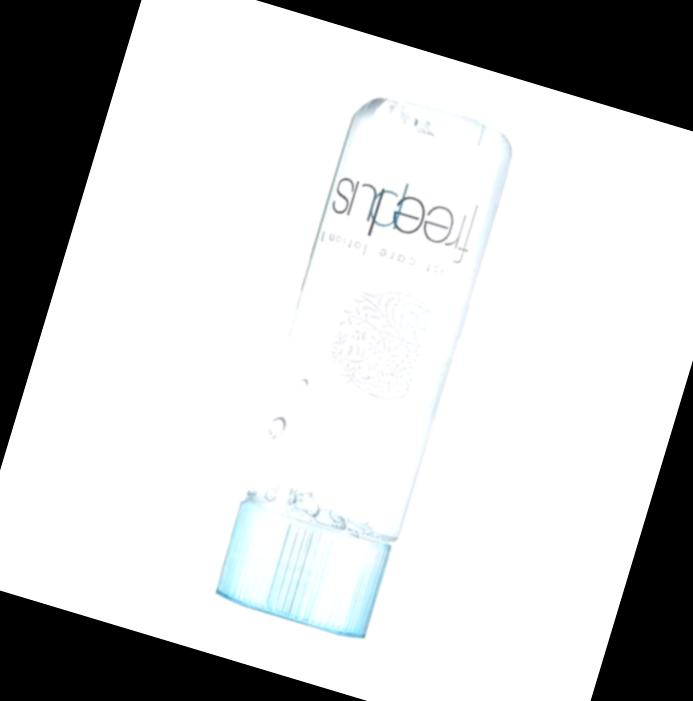cosmetic: (207, 83, 517, 637)
